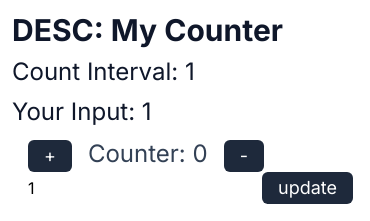
Test: tests if input field correctly updates countInterval › updates countInterval by specified input value
# get input element returned by setup
Replace the text in the number field named "input-count-interval" with "3". click: (145, 188)
box: [28,176,262,200]
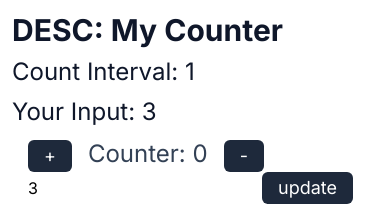
Click the button "update". click: (308, 188)
box: [262,172,353,204]
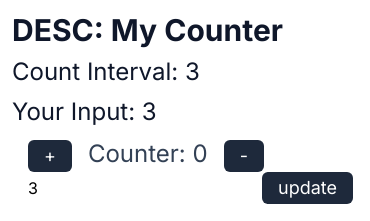
Now the heading "Count Interval: 3" is shown, box [12,57,200,86]
